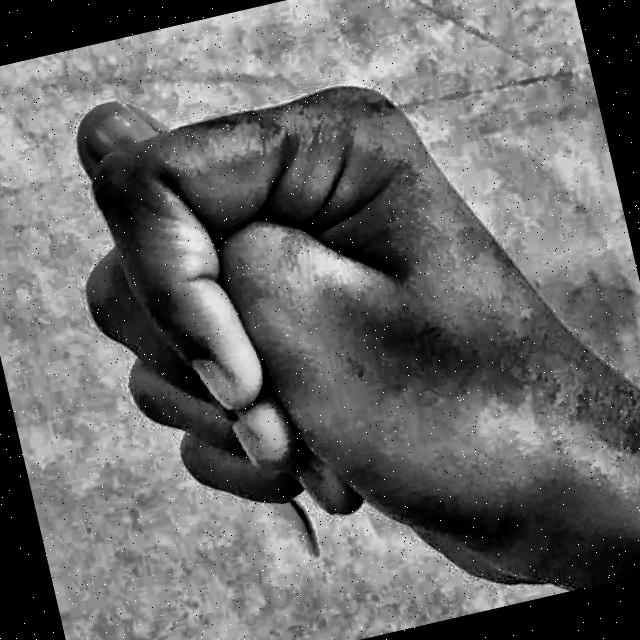Ta: (9, 0, 640, 640)
